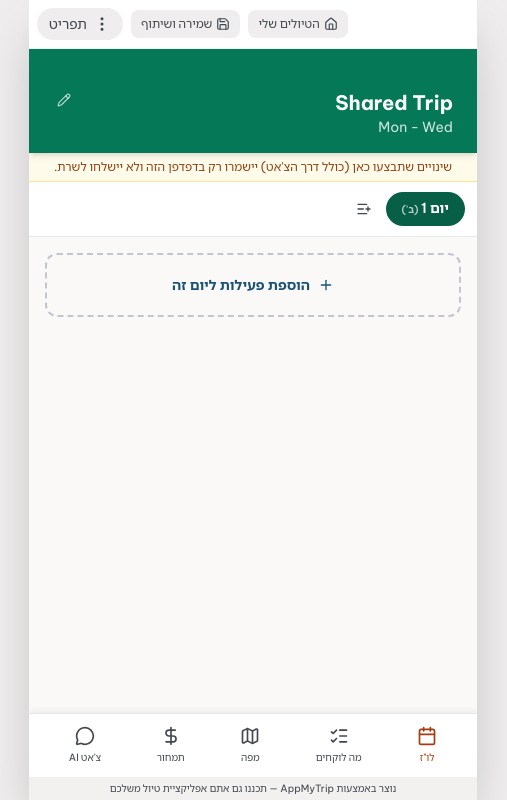
App shared-trip viewer activity enrichment › normalizes duplicate/empty ids in an agent response so each activity stays independently actionable
Expected: the heading "Shared Trip" is shown, [335, 89, 453, 117]
Click the button "צ'אט AI" at (85, 746), box [69, 726, 101, 765]
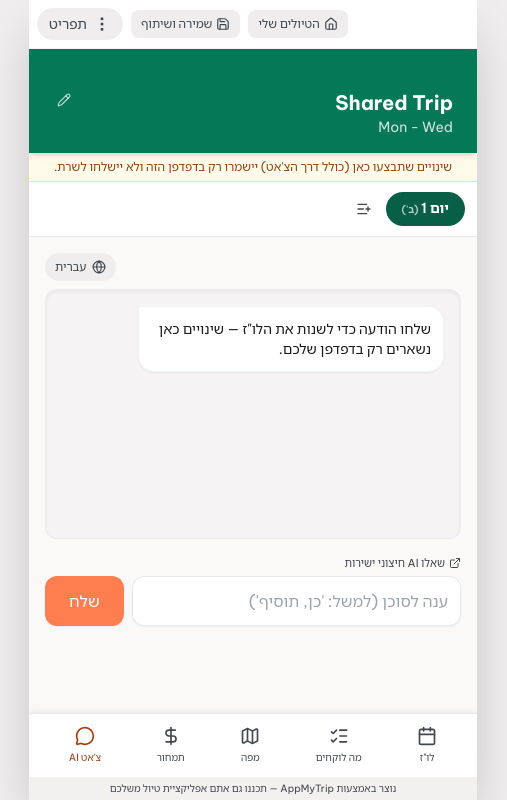
Type "תוסיף שתי עצירות" into the field with placeholder "ענה לסוכן (למשל: 'כן, תוסיף')" at (296, 600), box [132, 576, 461, 626]
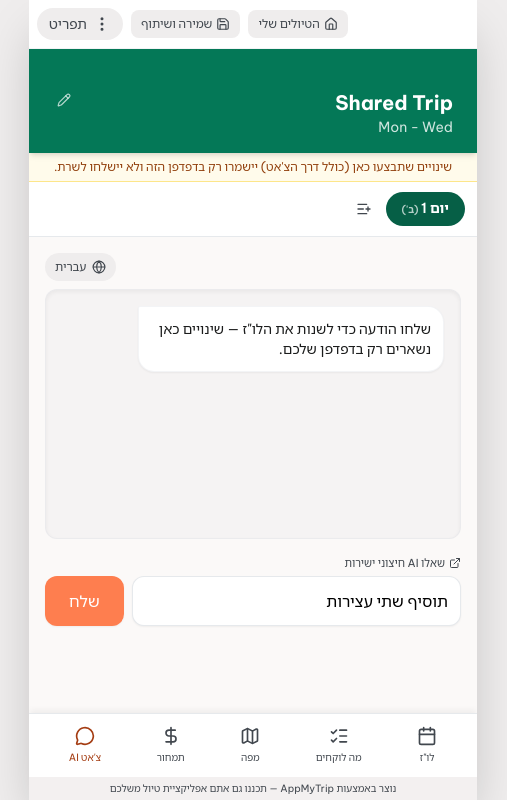
Submit the form with placeholder "ענה לסוכן", box [45, 576, 461, 626]
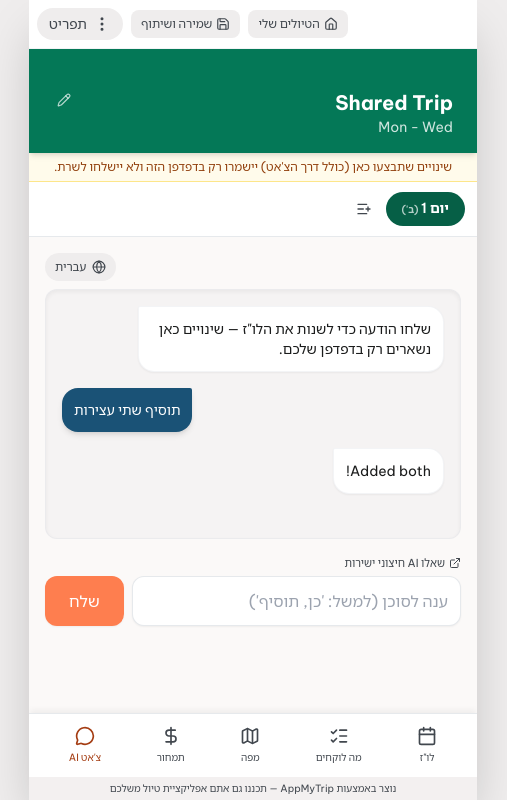
Now the text "Added both!" is shown, box [333, 448, 444, 494]
Click the button "לו\"ז" at (427, 746), box [417, 726, 437, 765]
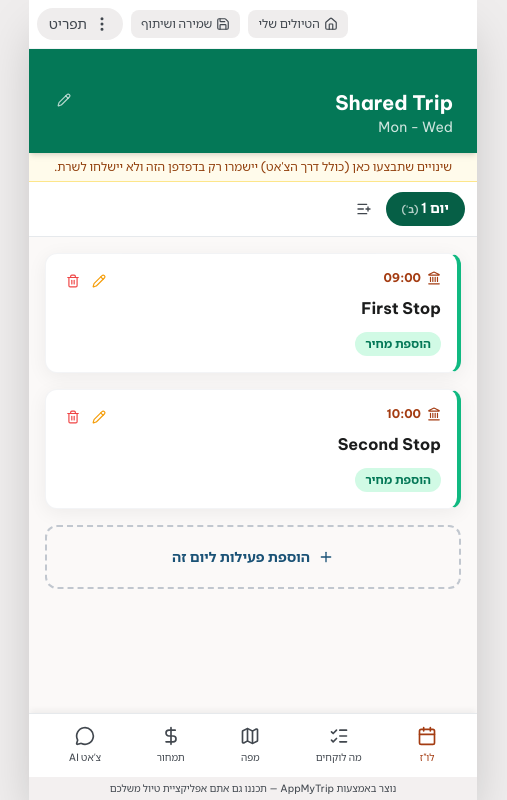
Now the heading "First Stop" is shown, box [361, 298, 441, 318]
Now the heading "Second Stop" is shown, box [338, 434, 441, 454]
Now the number of buttons named "מחיקת פעילות" is 2
Click the button named "מחיקת פעילות" in the row of "09:00" at (73, 281), box [62, 270, 84, 292]
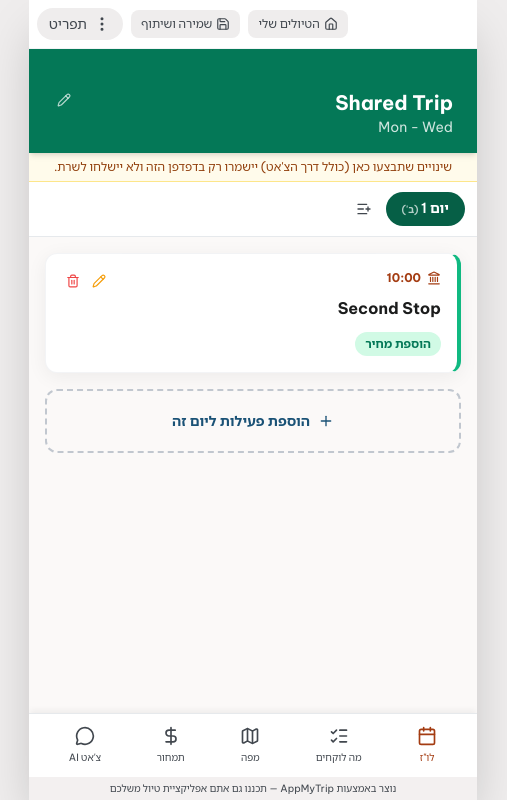
Now the heading "Second Stop" is shown, box [338, 298, 441, 318]
Now the heading "First Stop" is gone
